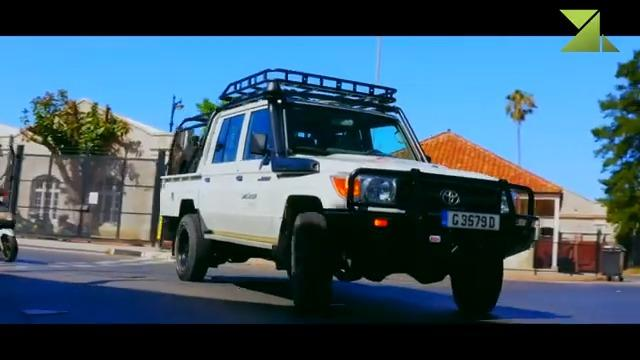MIL_HMMWV: (157, 94, 538, 315)
